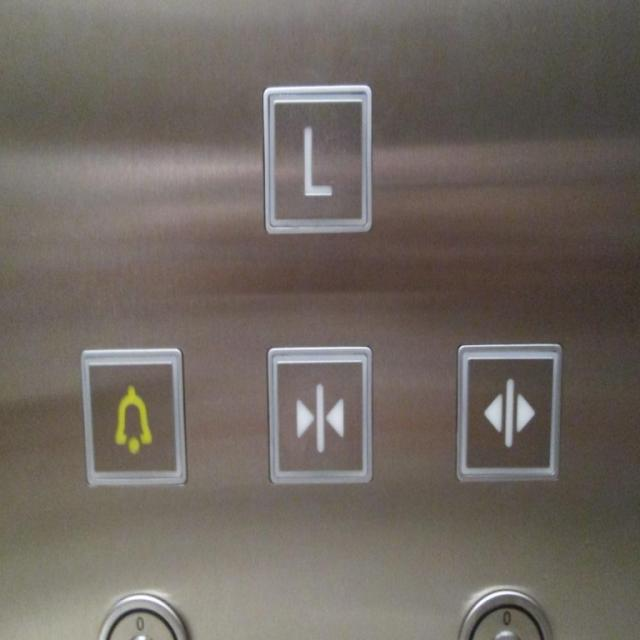L: (258, 81, 375, 239)
alarm: (75, 343, 191, 491)
close: (263, 341, 376, 489)
open: (452, 336, 564, 486)
